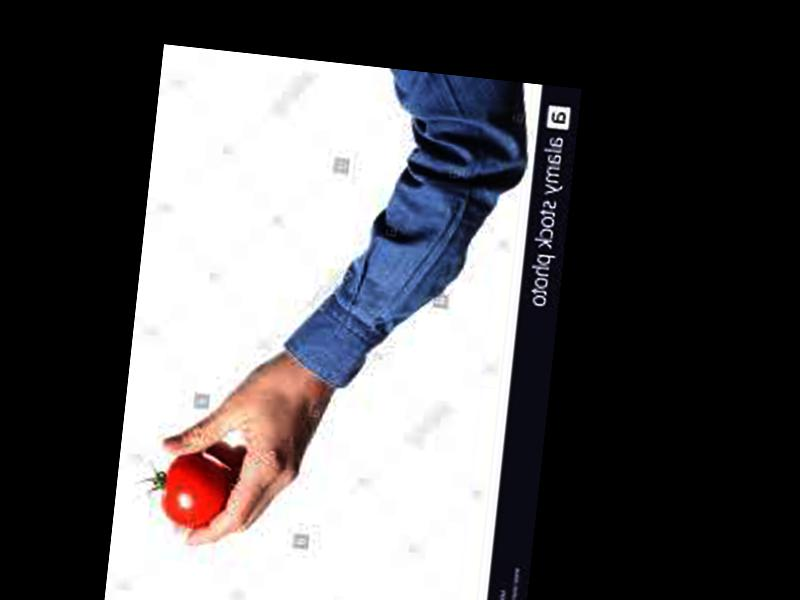Tomato: (161, 453, 229, 532)
